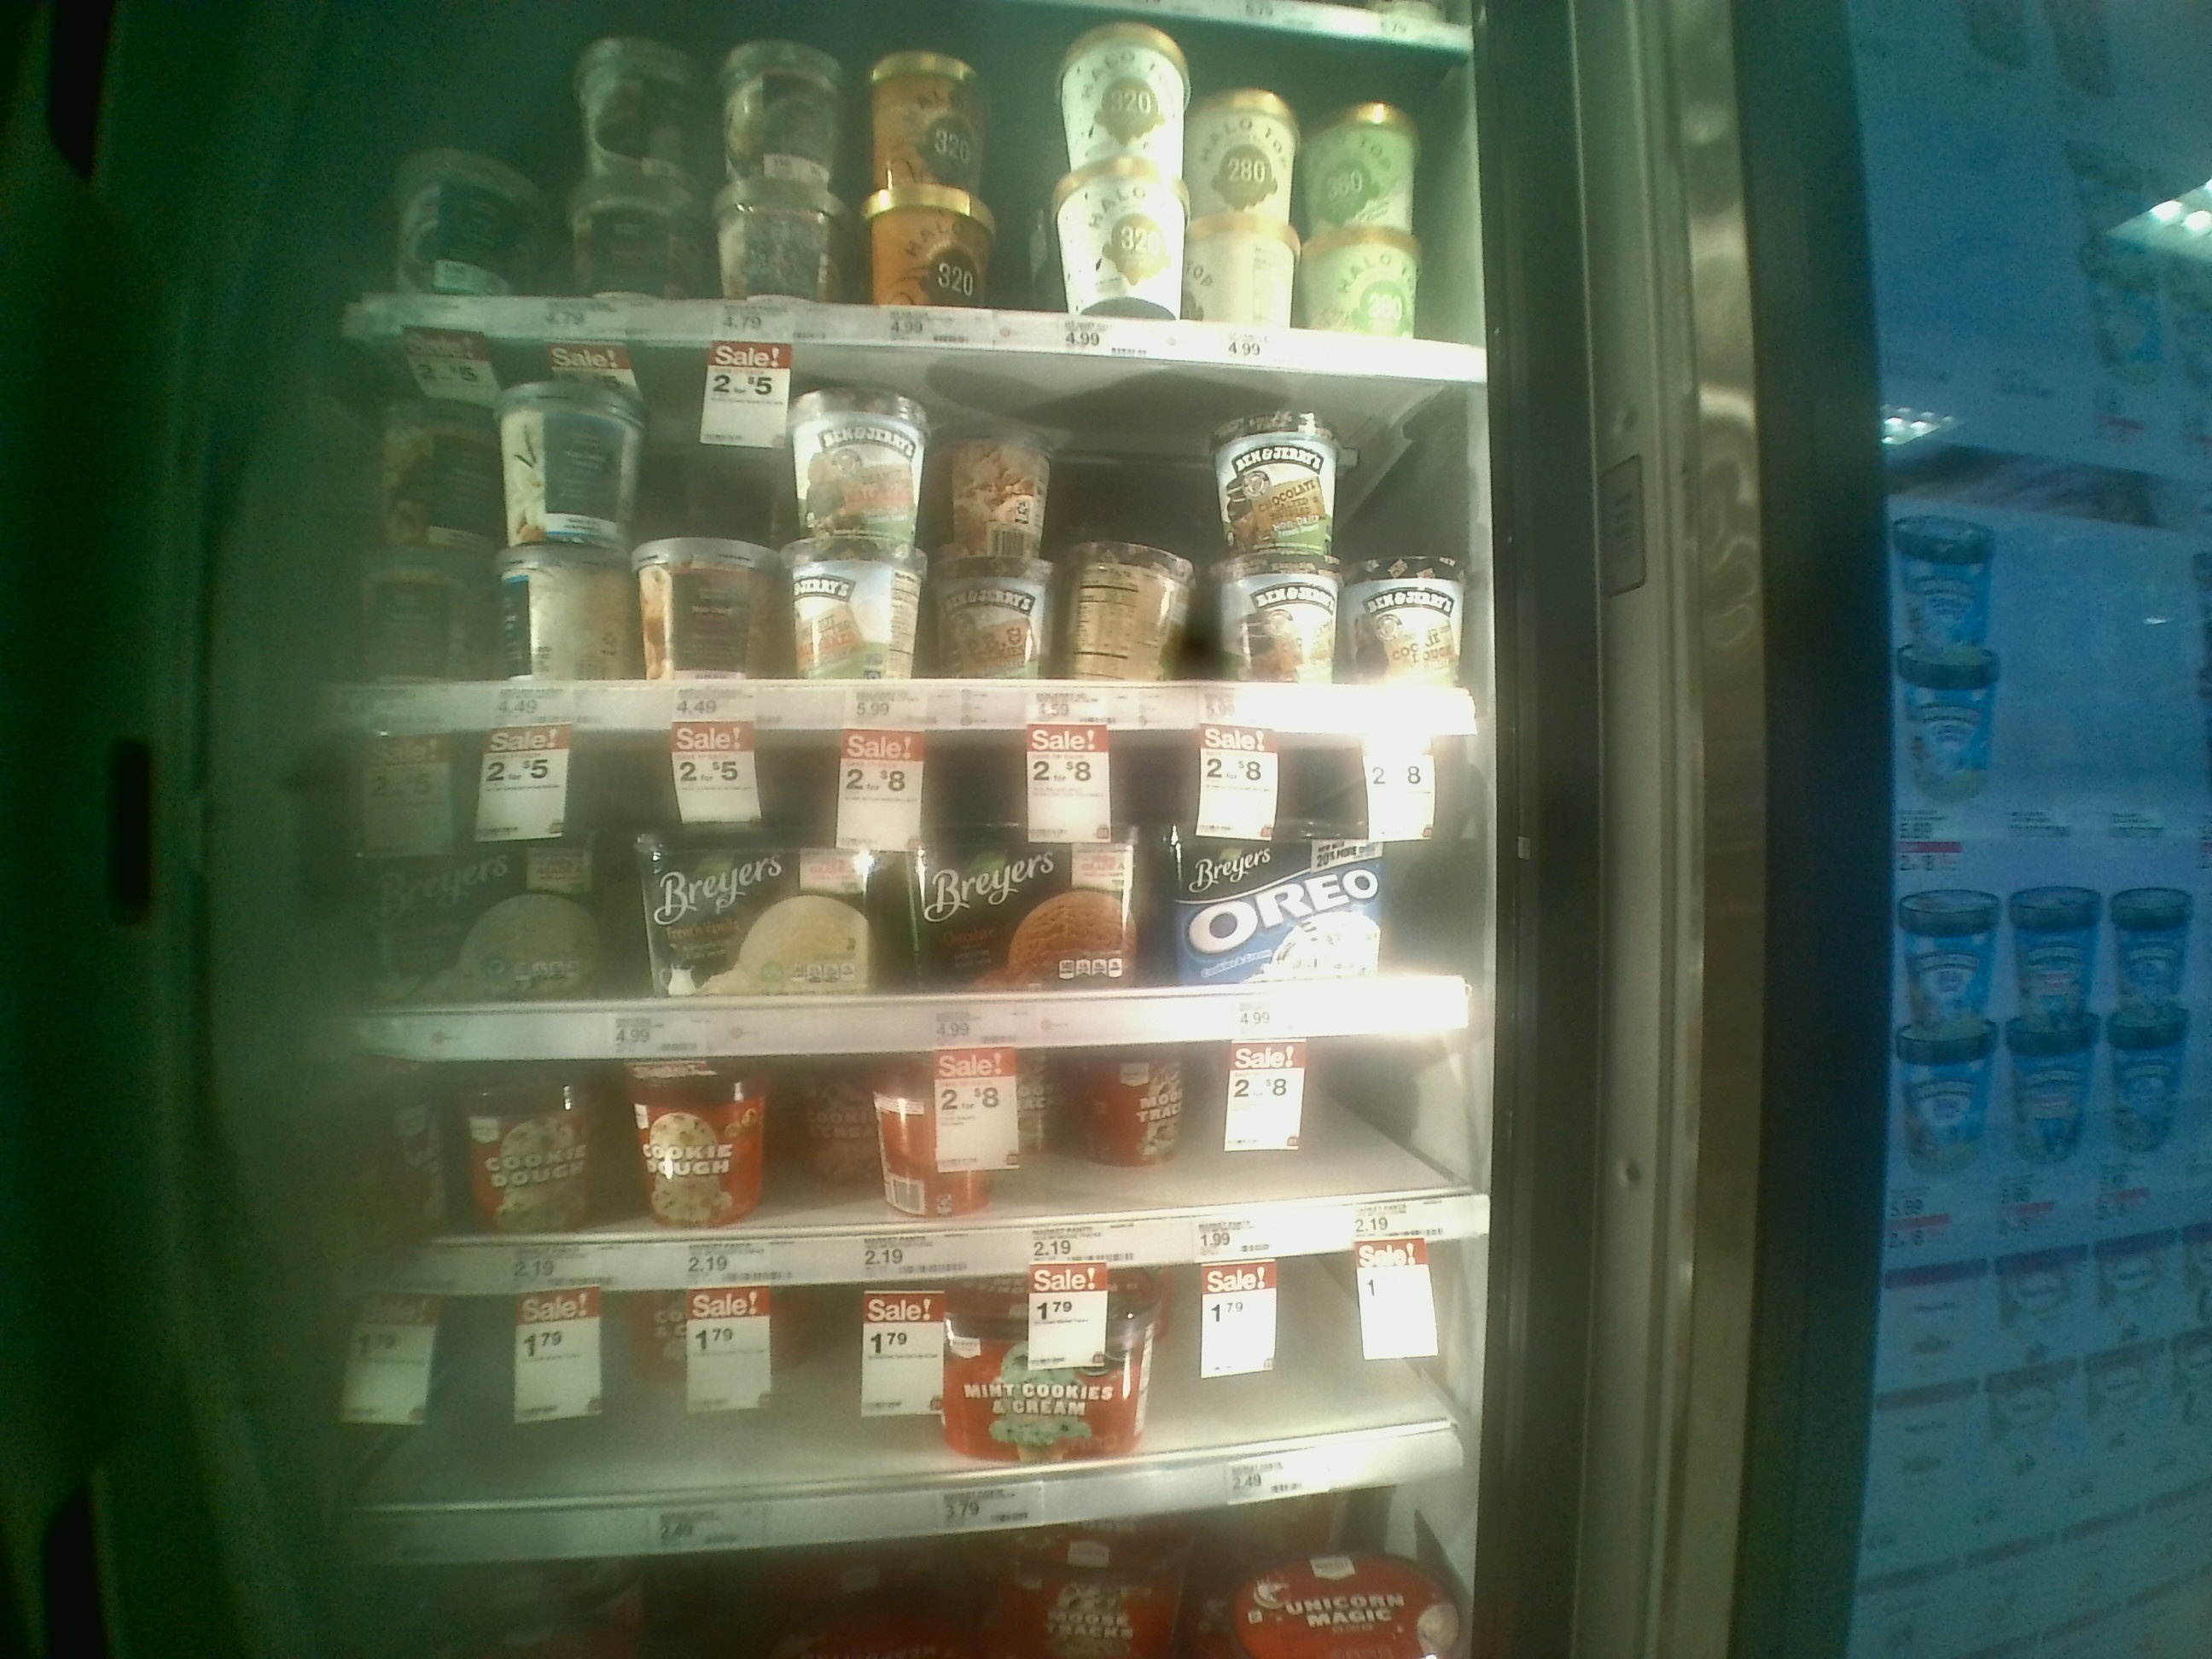shelf: (341, 322, 1489, 734), (310, 1256, 1524, 1572), (329, 728, 1498, 1037), (326, 1037, 1508, 1298)
